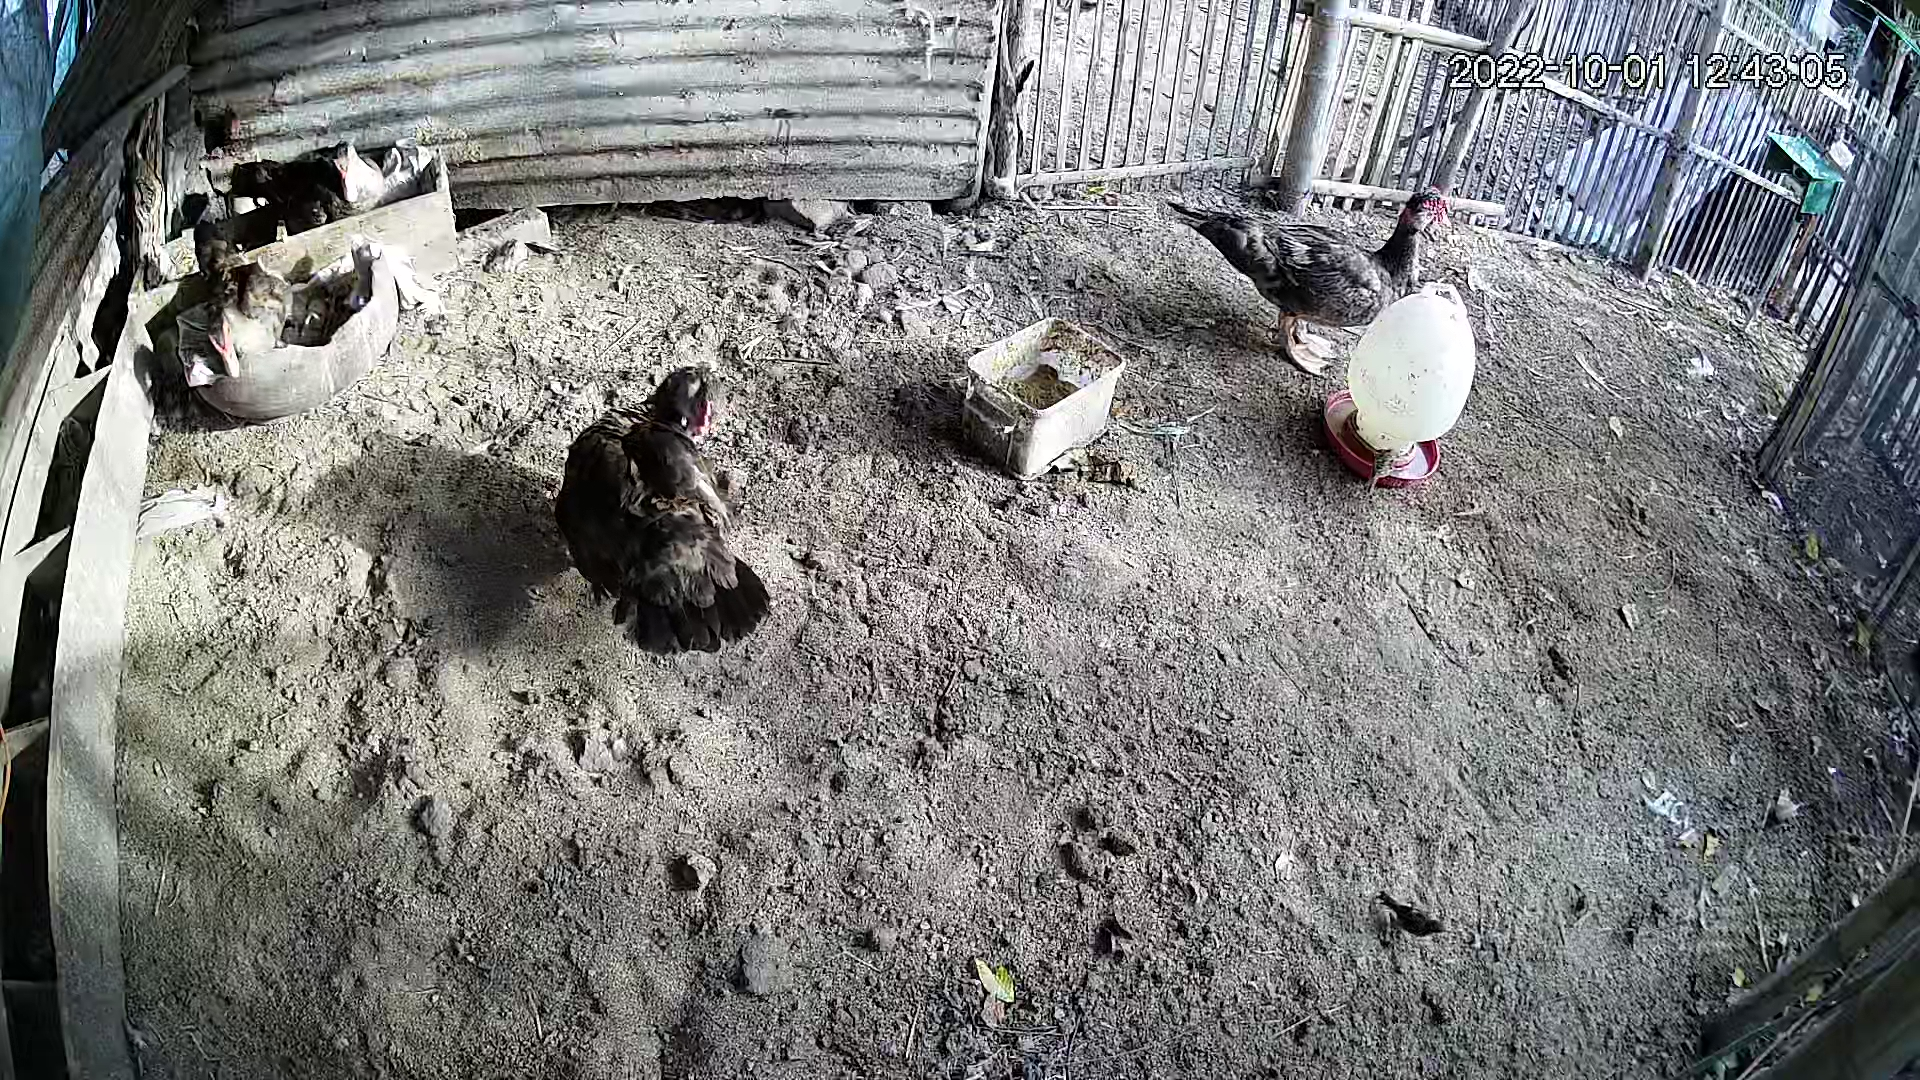Mengeram: (109, 120, 455, 444)
